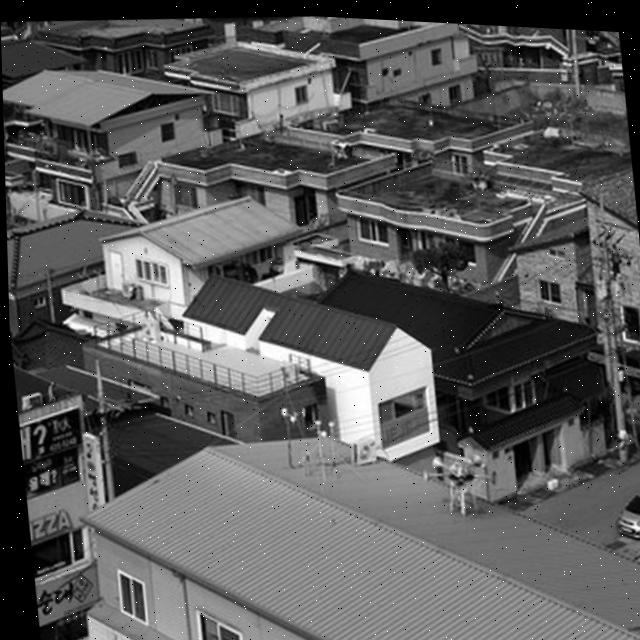building: (75, 391, 640, 640), (310, 244, 628, 513), (89, 248, 443, 478), (2, 52, 220, 211), (158, 106, 396, 244), (337, 147, 549, 296), (85, 182, 311, 306), (512, 158, 640, 367), (247, 13, 483, 121), (13, 358, 101, 640), (162, 23, 349, 148), (285, 82, 518, 179), (6, 196, 146, 304)
